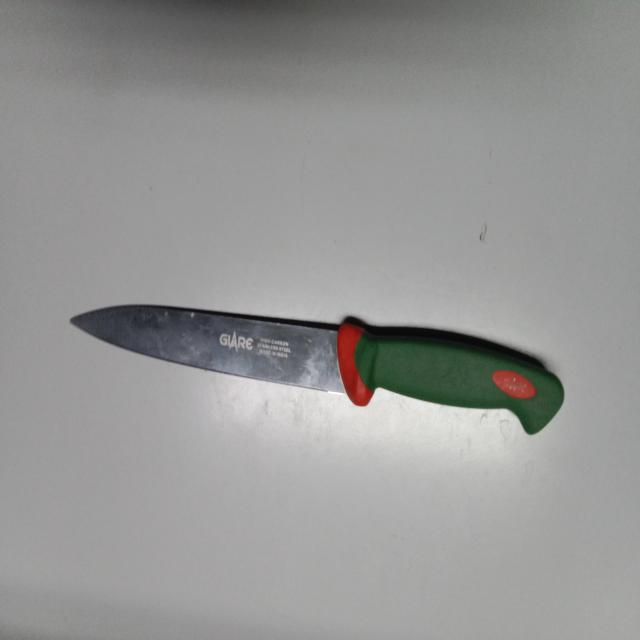Knife: (70, 305, 565, 434)
